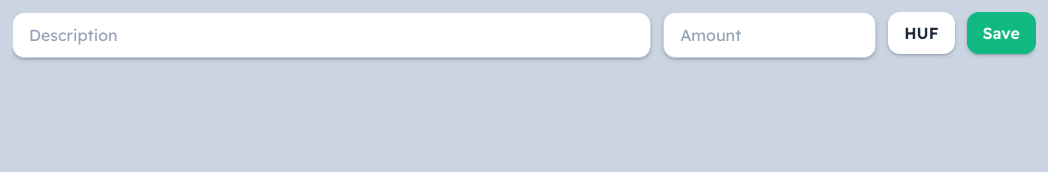
Scenario: SpendingCreatorForm › should display error message for empty input description input
This screenshot has width=1048, height=172.
Click the button "Save": (1001, 33) [966, 12, 1036, 54]
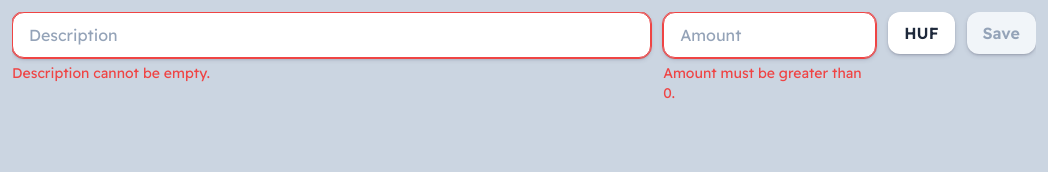
Now the text "Description cannot be empty." is shown, box [12, 64, 210, 82]
